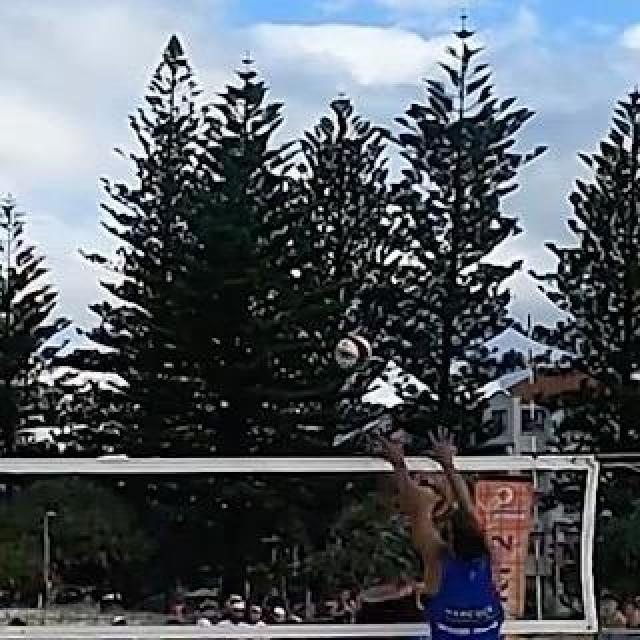volleyball: (336, 336, 370, 366)
